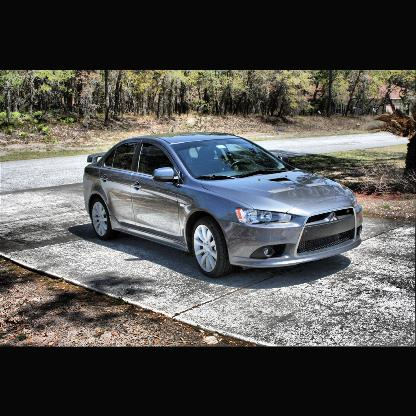Mitsubishi Lancer Sedan 2012: (82, 131, 367, 279)
